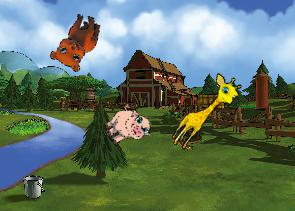bear: (47, 7, 103, 74)
giraffe: (167, 68, 245, 158)
pig: (99, 100, 154, 153)
